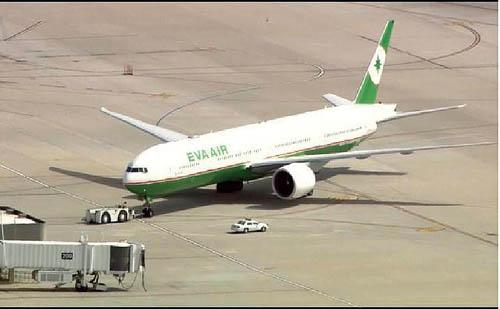airplane: (111, 19, 476, 199)
